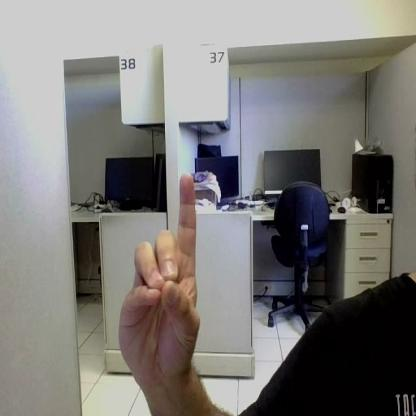D: (118, 173, 201, 357)
